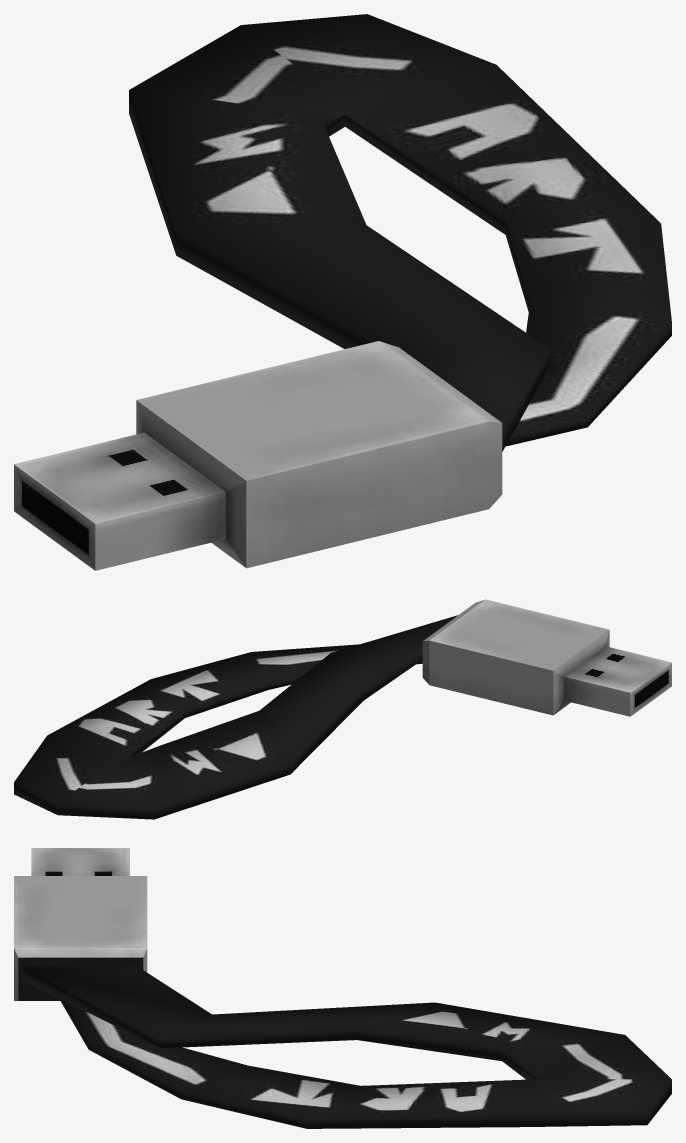
The model's file is USB.FBX.
3 views of the same model, one above another, from view 1: azimuth 30°, elevation 25°; view 2: azimuth 150°, elevation 25°; view 3: azimuth 270°, elevation 25° (orthographic). The views are drawn at different scales.
Visible parts, largest first — view 1: Box172; view 2: Box172; view 3: Box172.
Boxes of the visible parts, x1,y1,x2,y2 form: Box172: (14, 14, 671, 570); Box172: (14, 599, 671, 819); Box172: (14, 848, 671, 1128).
Size of the model in its own units: 32.83 by 3.75 by 38.03.
Materials: 1 (1 with a texture image).
